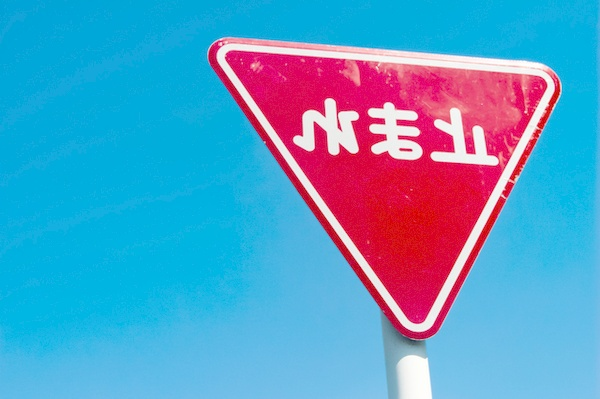Regulatory_sign_triangle: (210, 24, 571, 354)
